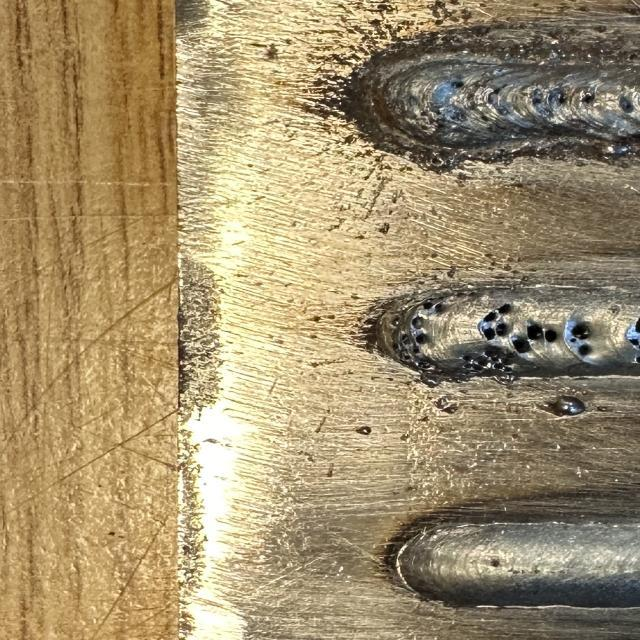Porosity: (418, 105, 462, 127), (483, 345, 515, 372), (625, 318, 640, 363), (462, 352, 492, 372), (570, 321, 590, 339), (460, 92, 477, 110), (512, 336, 530, 353), (527, 322, 543, 340), (618, 95, 633, 112), (422, 300, 443, 311), (530, 88, 543, 104), (543, 329, 558, 342), (400, 331, 412, 346), (415, 331, 428, 344), (400, 349, 413, 362), (578, 344, 592, 356), (495, 322, 507, 336), (482, 328, 495, 340), (483, 311, 497, 322), (478, 112, 493, 122), (497, 304, 512, 314), (415, 361, 433, 369), (412, 316, 423, 329), (582, 92, 595, 103), (557, 90, 567, 104), (452, 80, 465, 88), (487, 92, 495, 104), (392, 318, 402, 326), (492, 88, 502, 95), (392, 342, 398, 350), (568, 338, 577, 342), (413, 348, 420, 353)
Spatters: (547, 395, 585, 416), (360, 182, 380, 220), (433, 396, 458, 414), (602, 144, 637, 156), (377, 175, 392, 191), (490, 261, 512, 271), (378, 222, 390, 234), (355, 426, 372, 434), (628, 54, 640, 64), (447, 268, 457, 278), (612, 304, 620, 314), (392, 190, 398, 203), (400, 434, 410, 441), (597, 406, 606, 412), (327, 469, 333, 477), (512, 434, 520, 439), (485, 254, 492, 257)
